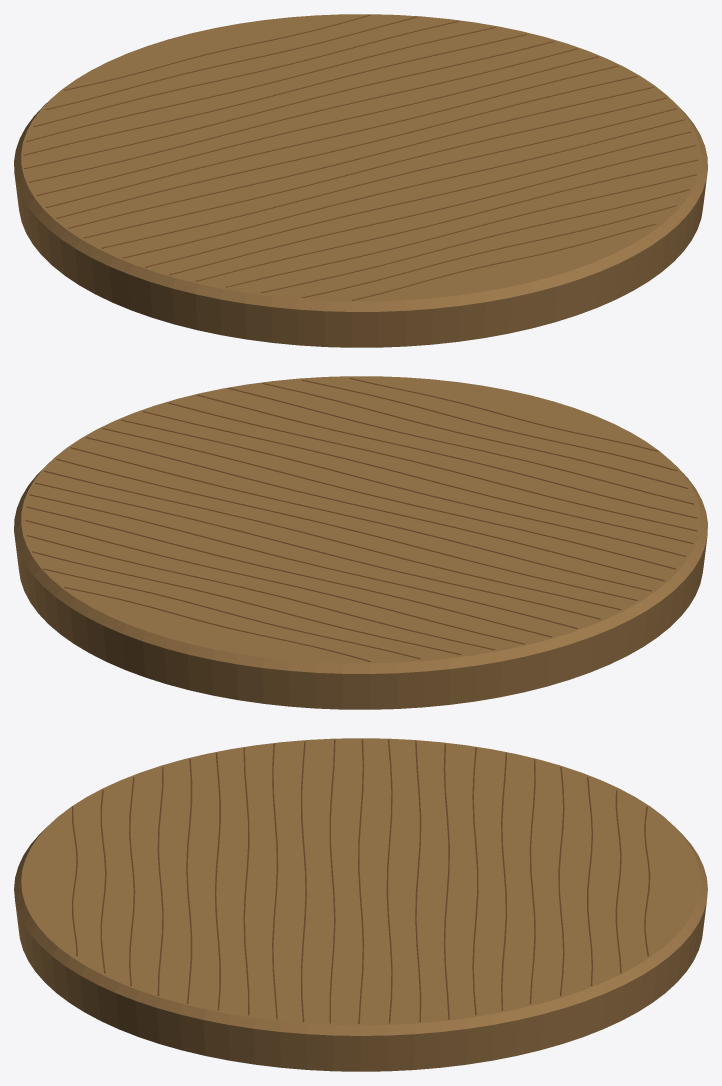
Rendered from board.glb.
3 renders of one model, top to bottom at view 1: azimuth 30°, elevation 25°; view 2: azimuth 150°, elevation 25°; view 3: azimuth 270°, elevation 25°, orthographic.
Visible parts, largest first — view 1: 실내 조명 베이크용 board; view 2: 실내 조명 베이크용 board; view 3: 실내 조명 베이크용 board.
Boxes of the visible parts, box(x1,y1,x2,y2) form: 실내 조명 베이크용 board: box(14, 14, 707, 347); 실내 조명 베이크용 board: box(14, 376, 707, 709); 실내 조명 베이크용 board: box(14, 738, 707, 1071).
Size of the model in its own units: 0.582 by 0.0467 by 0.582.
